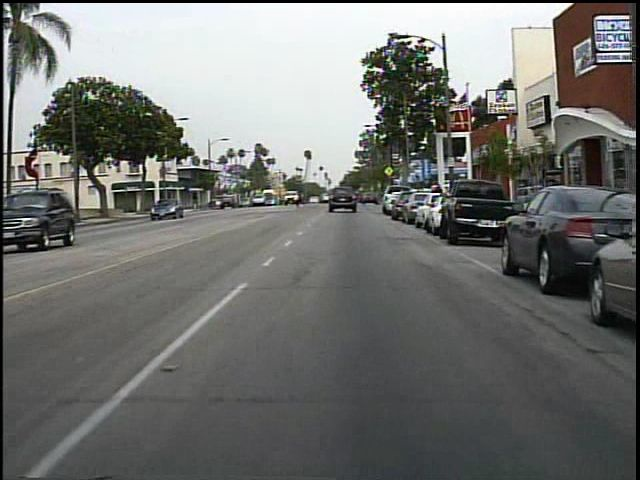person: (429, 180, 449, 218), (294, 185, 309, 212)
